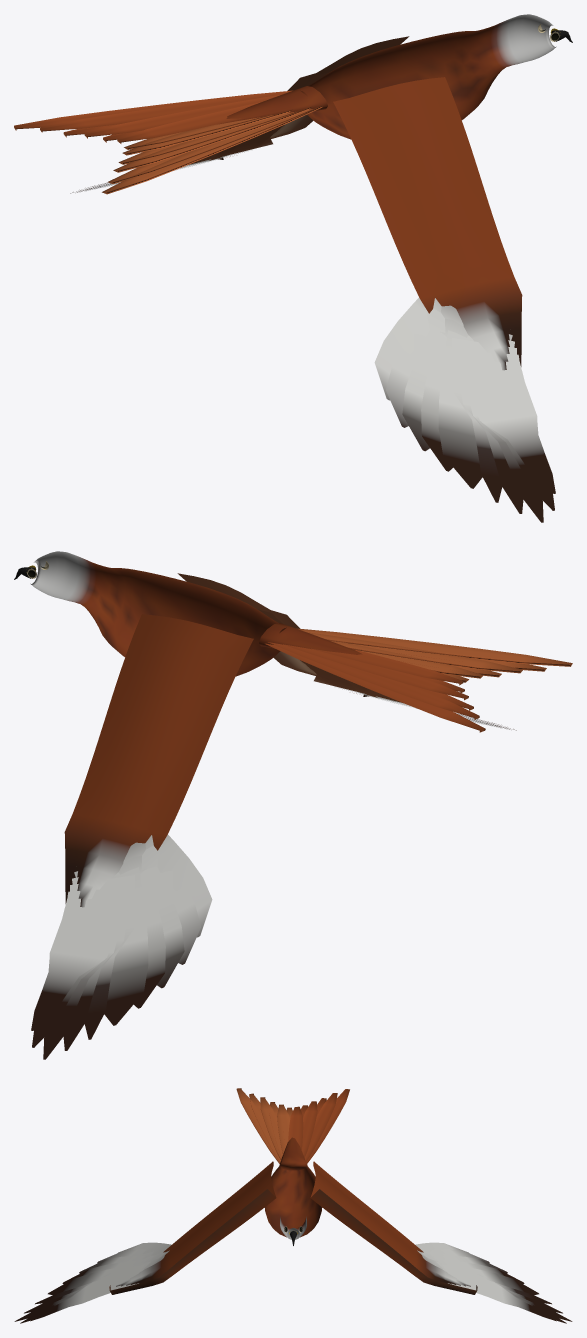
The model's file is SM_Bird_red_kite_flap2.glb.
3 views of the same model, one above another, from view 1: azimuth 30°, elevation 25°; view 2: azimuth 150°, elevation 25°; view 3: azimuth 270°, elevation 25° (orthographic). The views are drawn at different scales.
Visible parts, largest first — view 1: SM_Bird_red_kite_flap2; view 2: SM_Bird_red_kite_flap2; view 3: SM_Bird_red_kite_flap2.
Boxes of the visible parts, x1,y1,x2,y2 form: SM_Bird_red_kite_flap2: [14, 14, 572, 522]; SM_Bird_red_kite_flap2: [14, 551, 572, 1059]; SM_Bird_red_kite_flap2: [14, 1088, 572, 1323].
Bounding box in the file's own units: 0.8199 × 0.4379 × 1.27.
